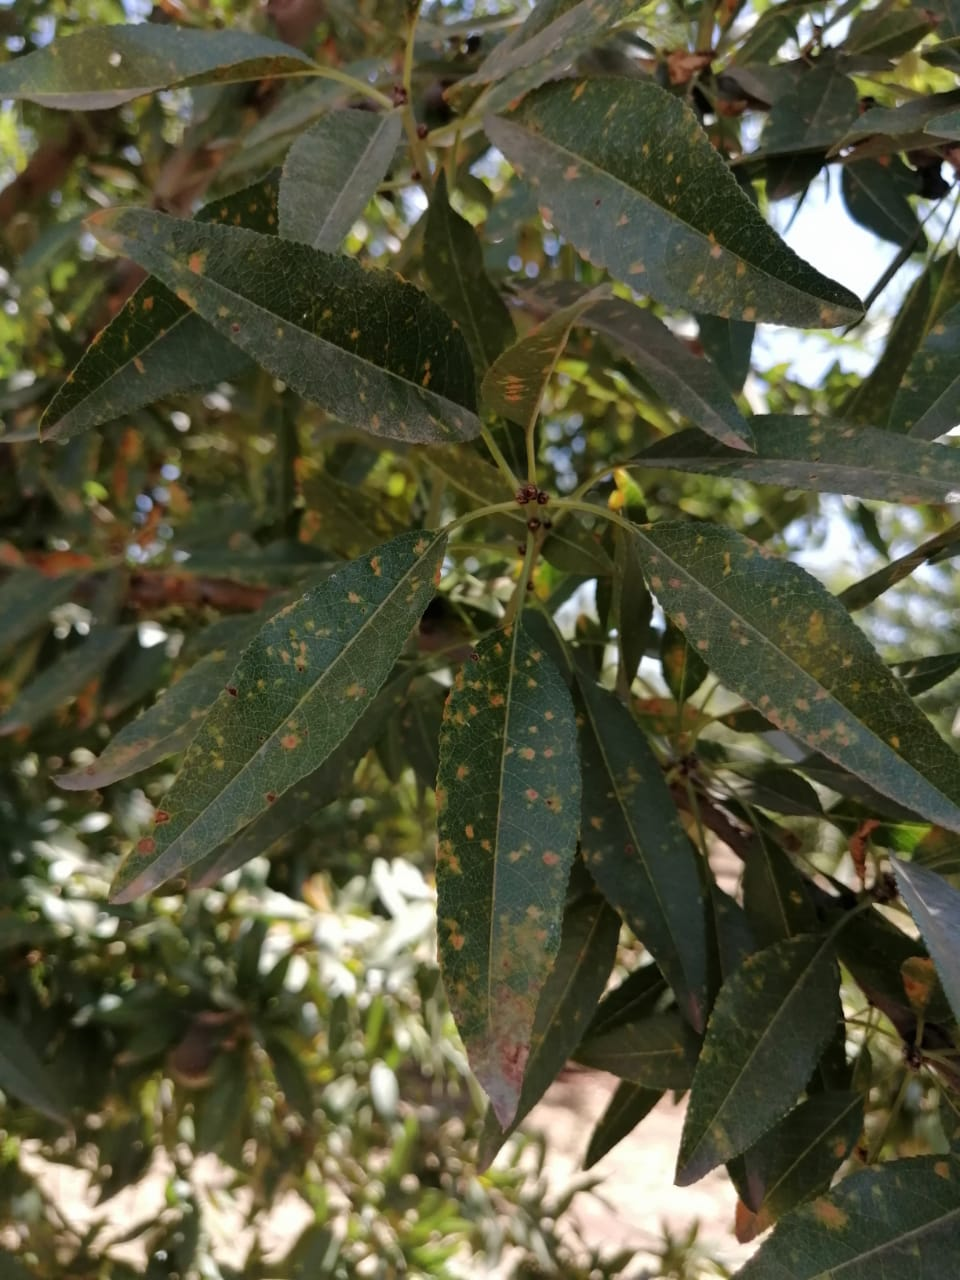polystigma: (107, 526, 444, 907), (632, 518, 960, 835), (82, 203, 488, 452), (478, 76, 868, 329), (436, 617, 584, 1131), (671, 927, 842, 1185), (629, 417, 960, 508)
